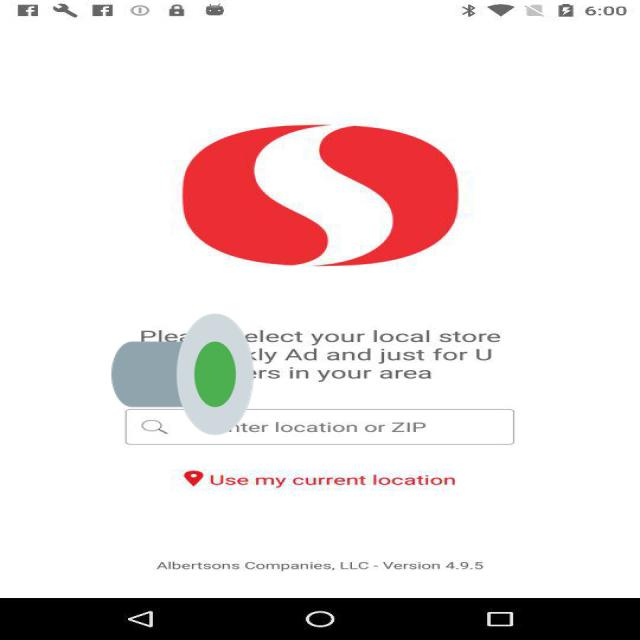social proof: (112, 262, 254, 487)
